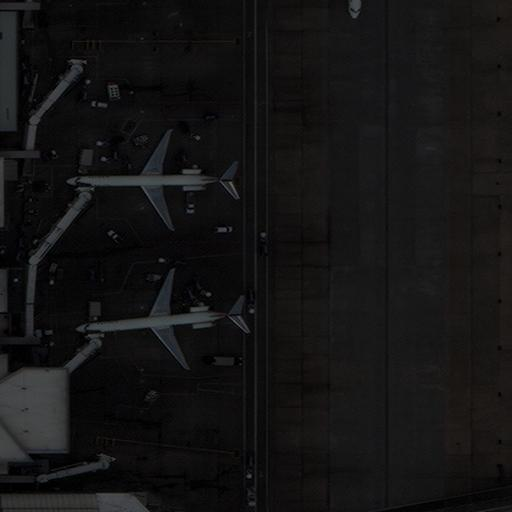Medium Civil Transport: (63, 131, 236, 229), (71, 270, 243, 368)
